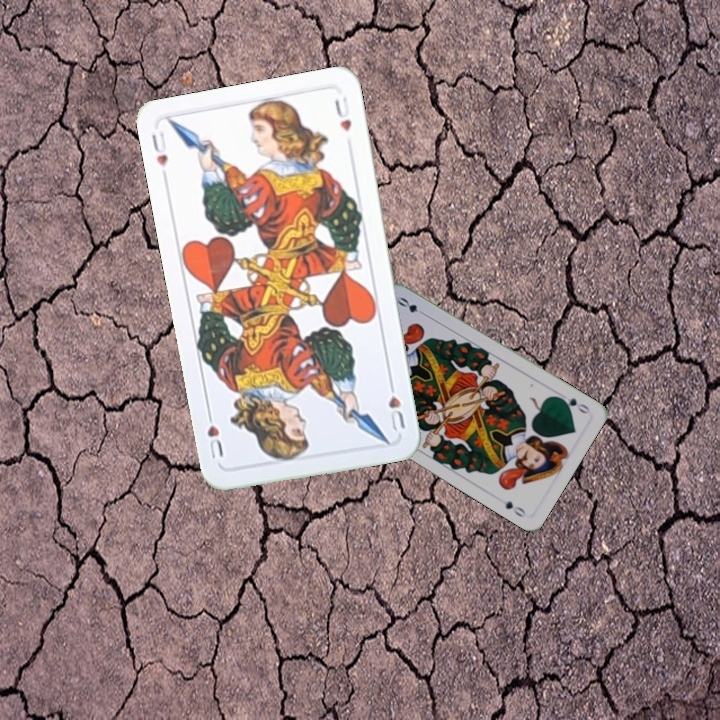GO: (554, 393, 592, 416)
HU: (384, 376, 408, 434), (147, 128, 171, 169)
